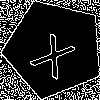X: (29, 24, 83, 80)
